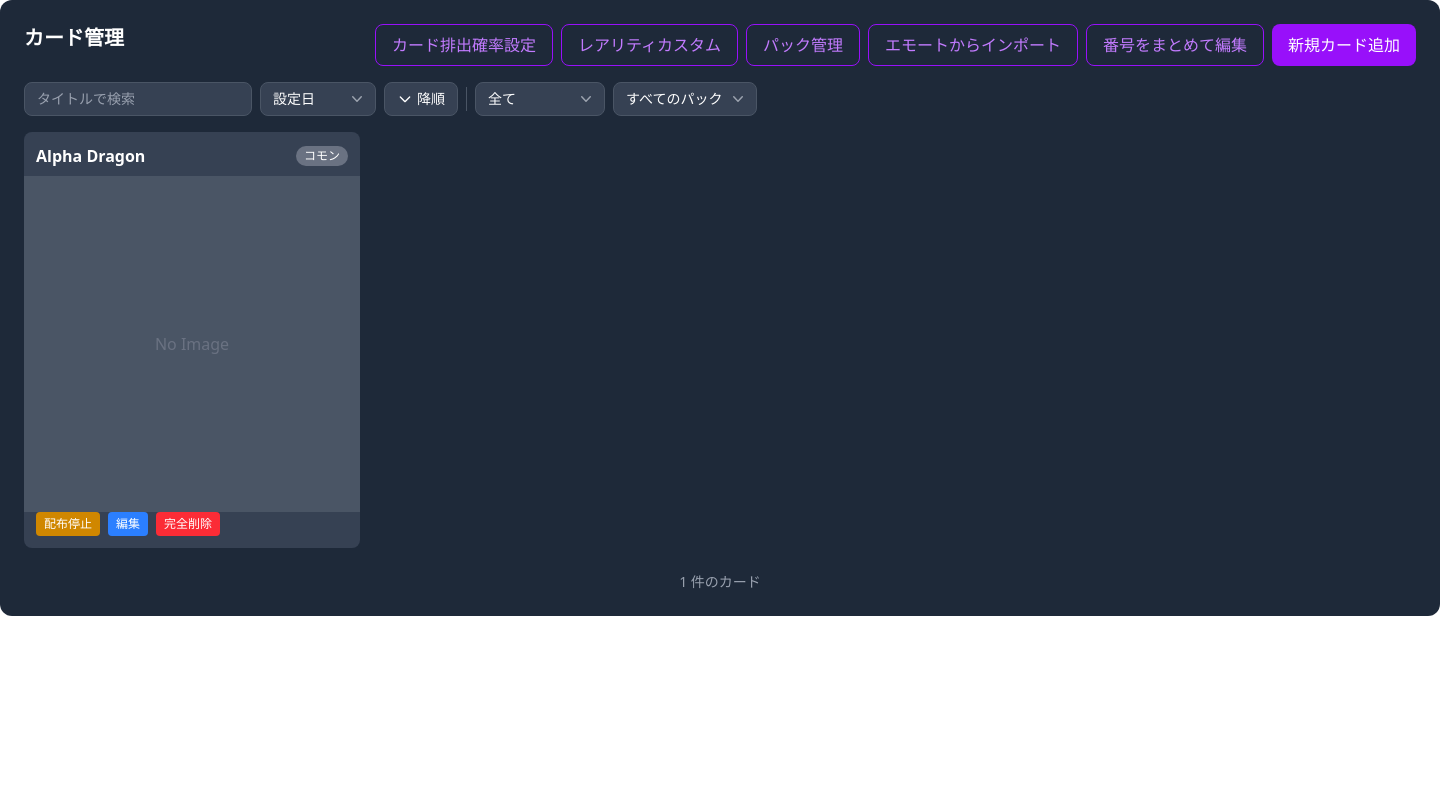
CardManager title search › shows a filtered empty state without replacing the no-cards message
In the search field named "カードタイトル検索": [138, 99] box [24,82,252,116], type "missing"
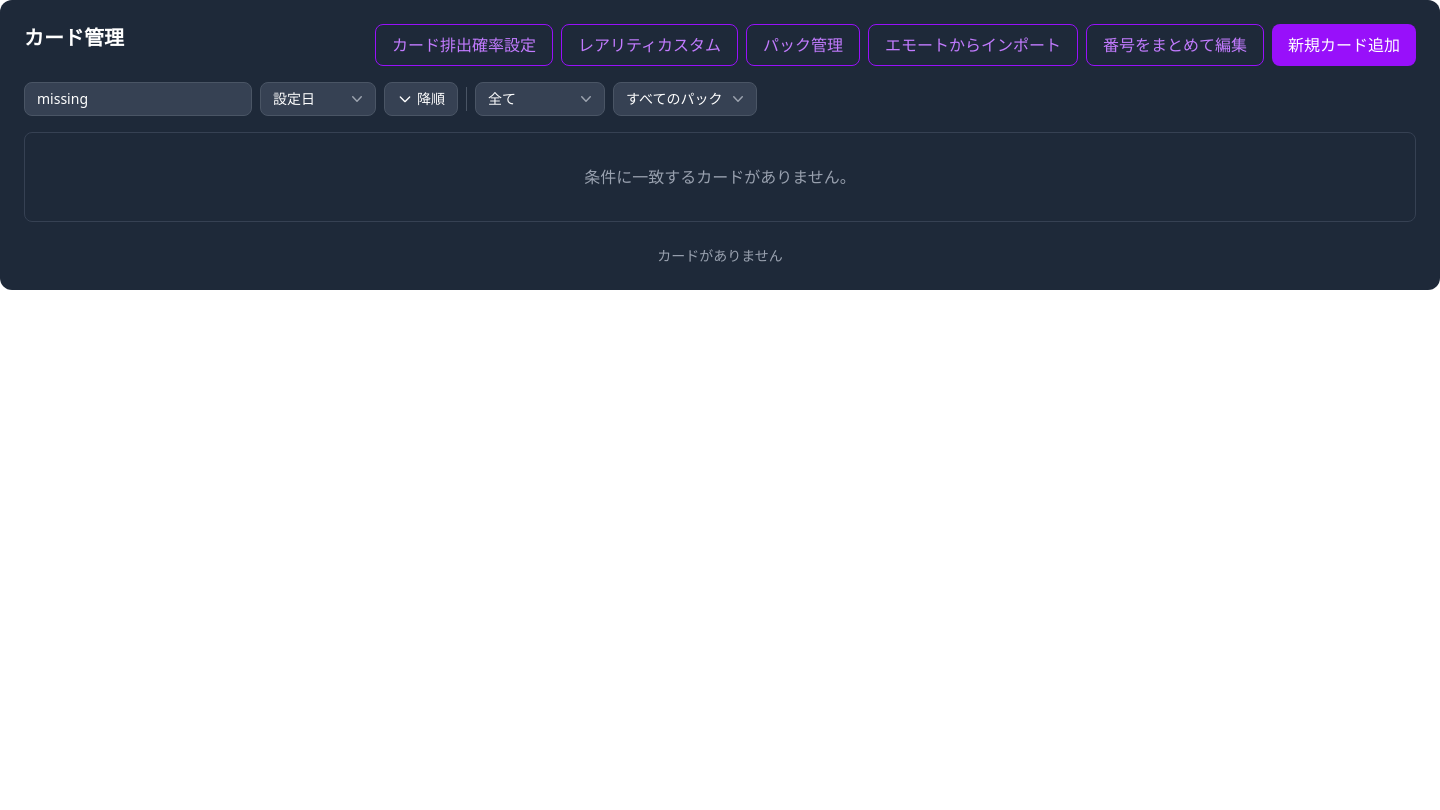
Expected: the text "条件に一致するカードがありません。" is shown, [24,132,1416,222]
